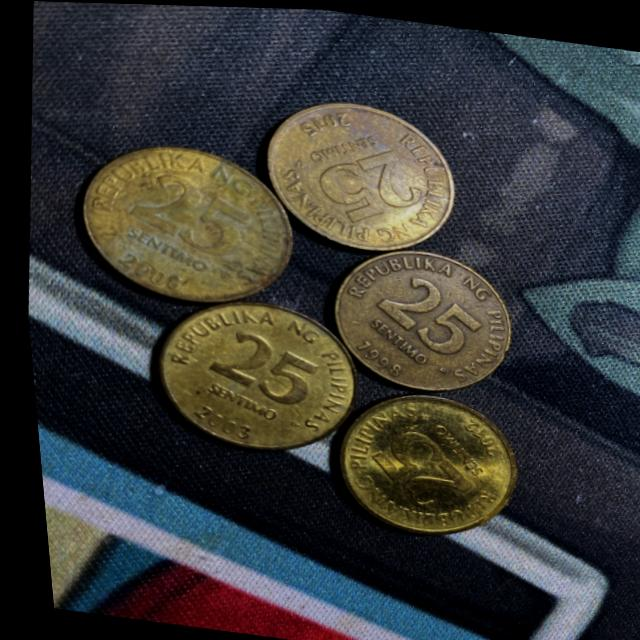25Cent_Old_Front: (122, 170, 253, 261), (199, 327, 317, 412), (359, 423, 470, 510), (307, 141, 423, 224), (368, 270, 473, 353)
